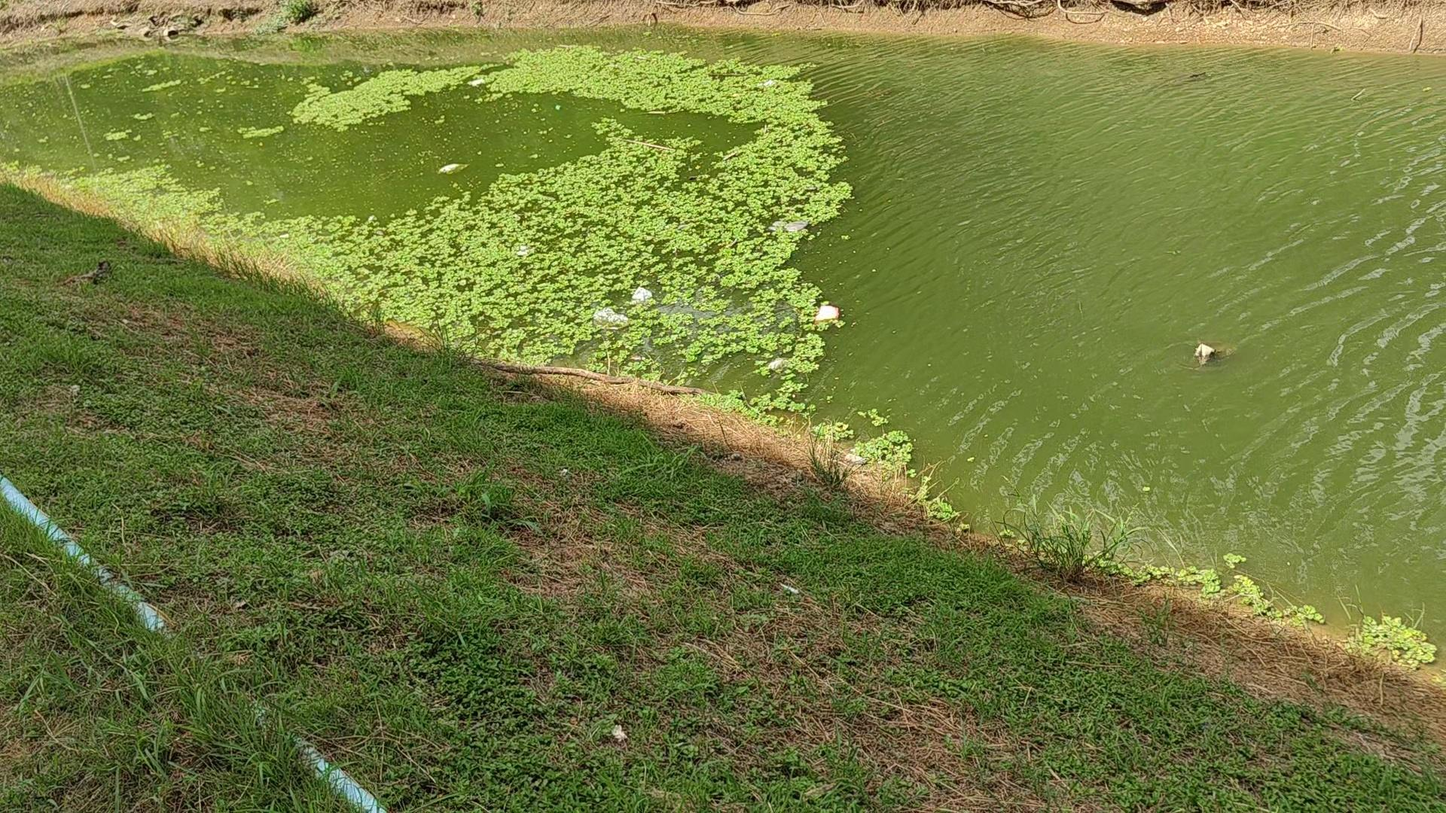trash: (594, 307, 628, 327), (1194, 343, 1218, 364), (814, 306, 840, 323), (773, 221, 809, 231), (632, 287, 653, 302), (439, 163, 466, 173), (768, 358, 787, 370), (468, 77, 486, 86), (758, 79, 776, 87)
